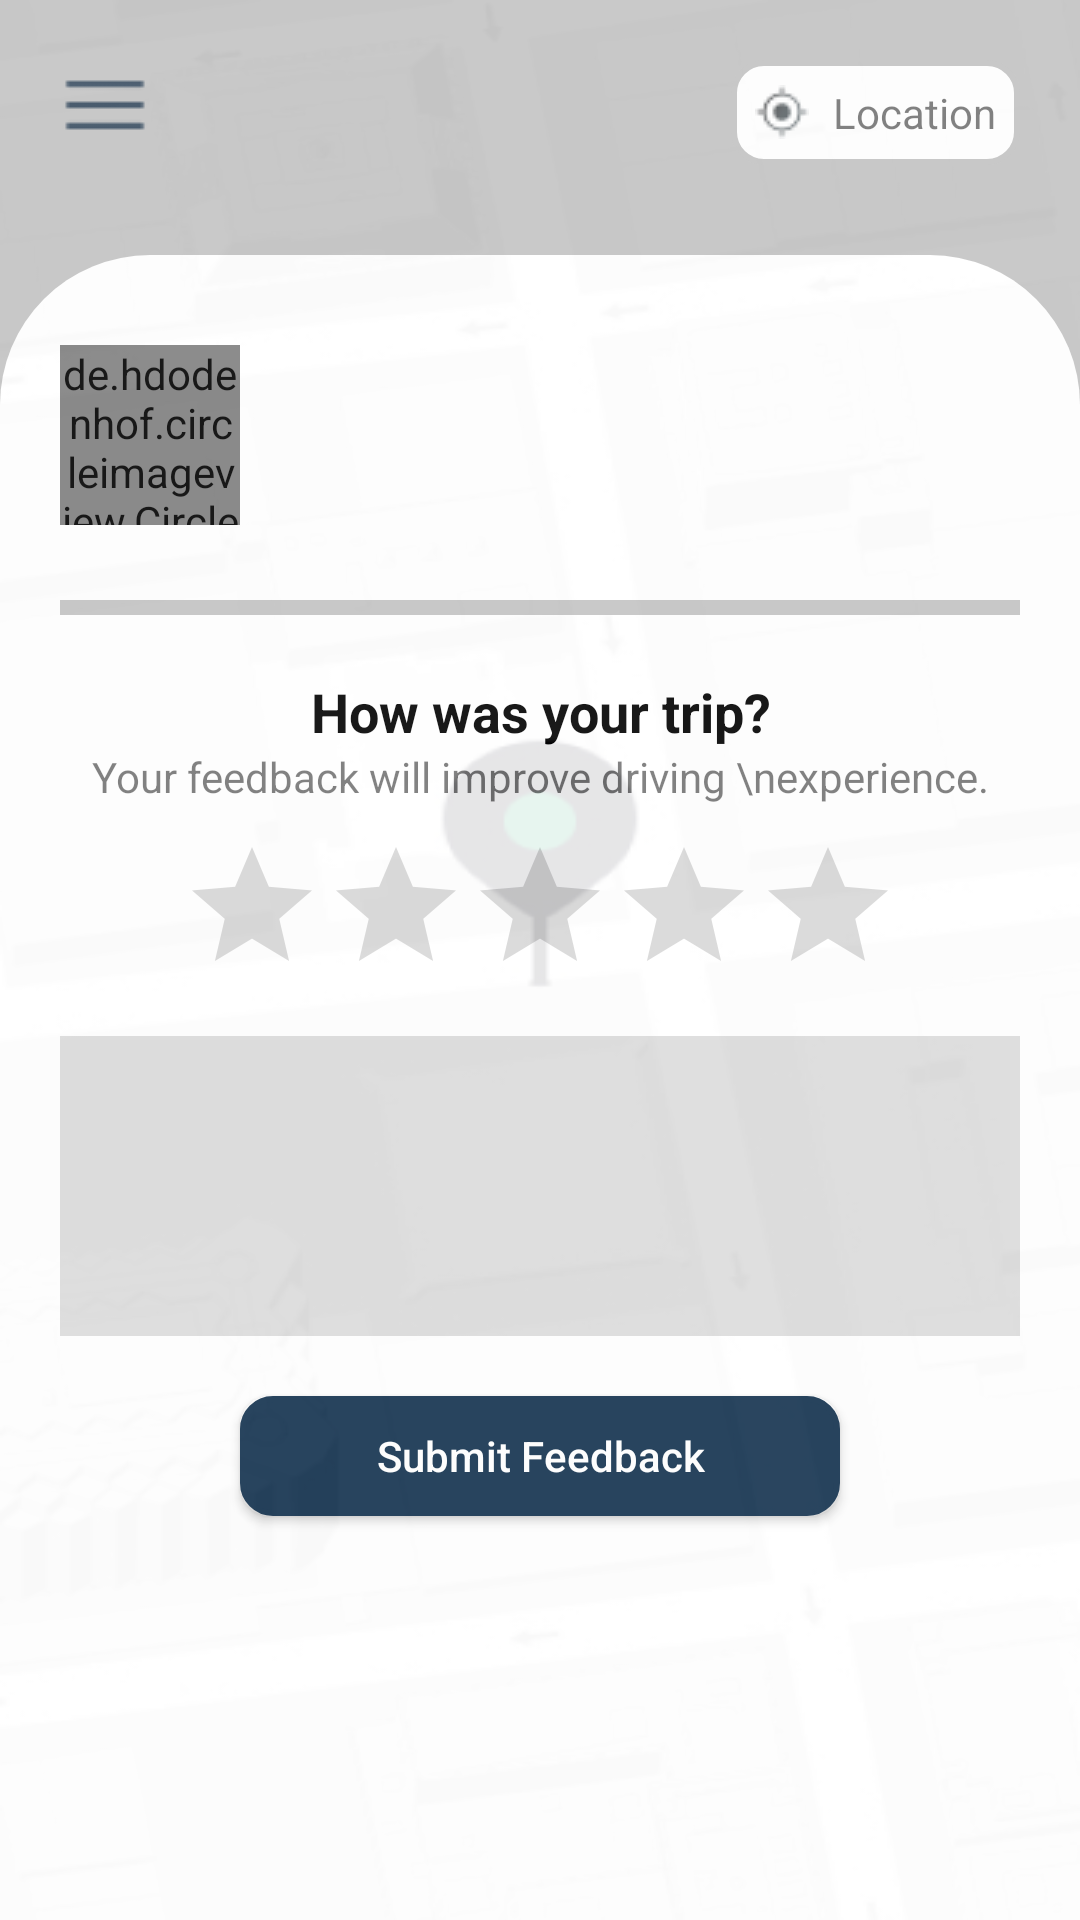

Named icons in this screenshot (1080*1920) and their bounding boxes, (x1, y1, x2, y2):
menu: (65, 80, 145, 130)
